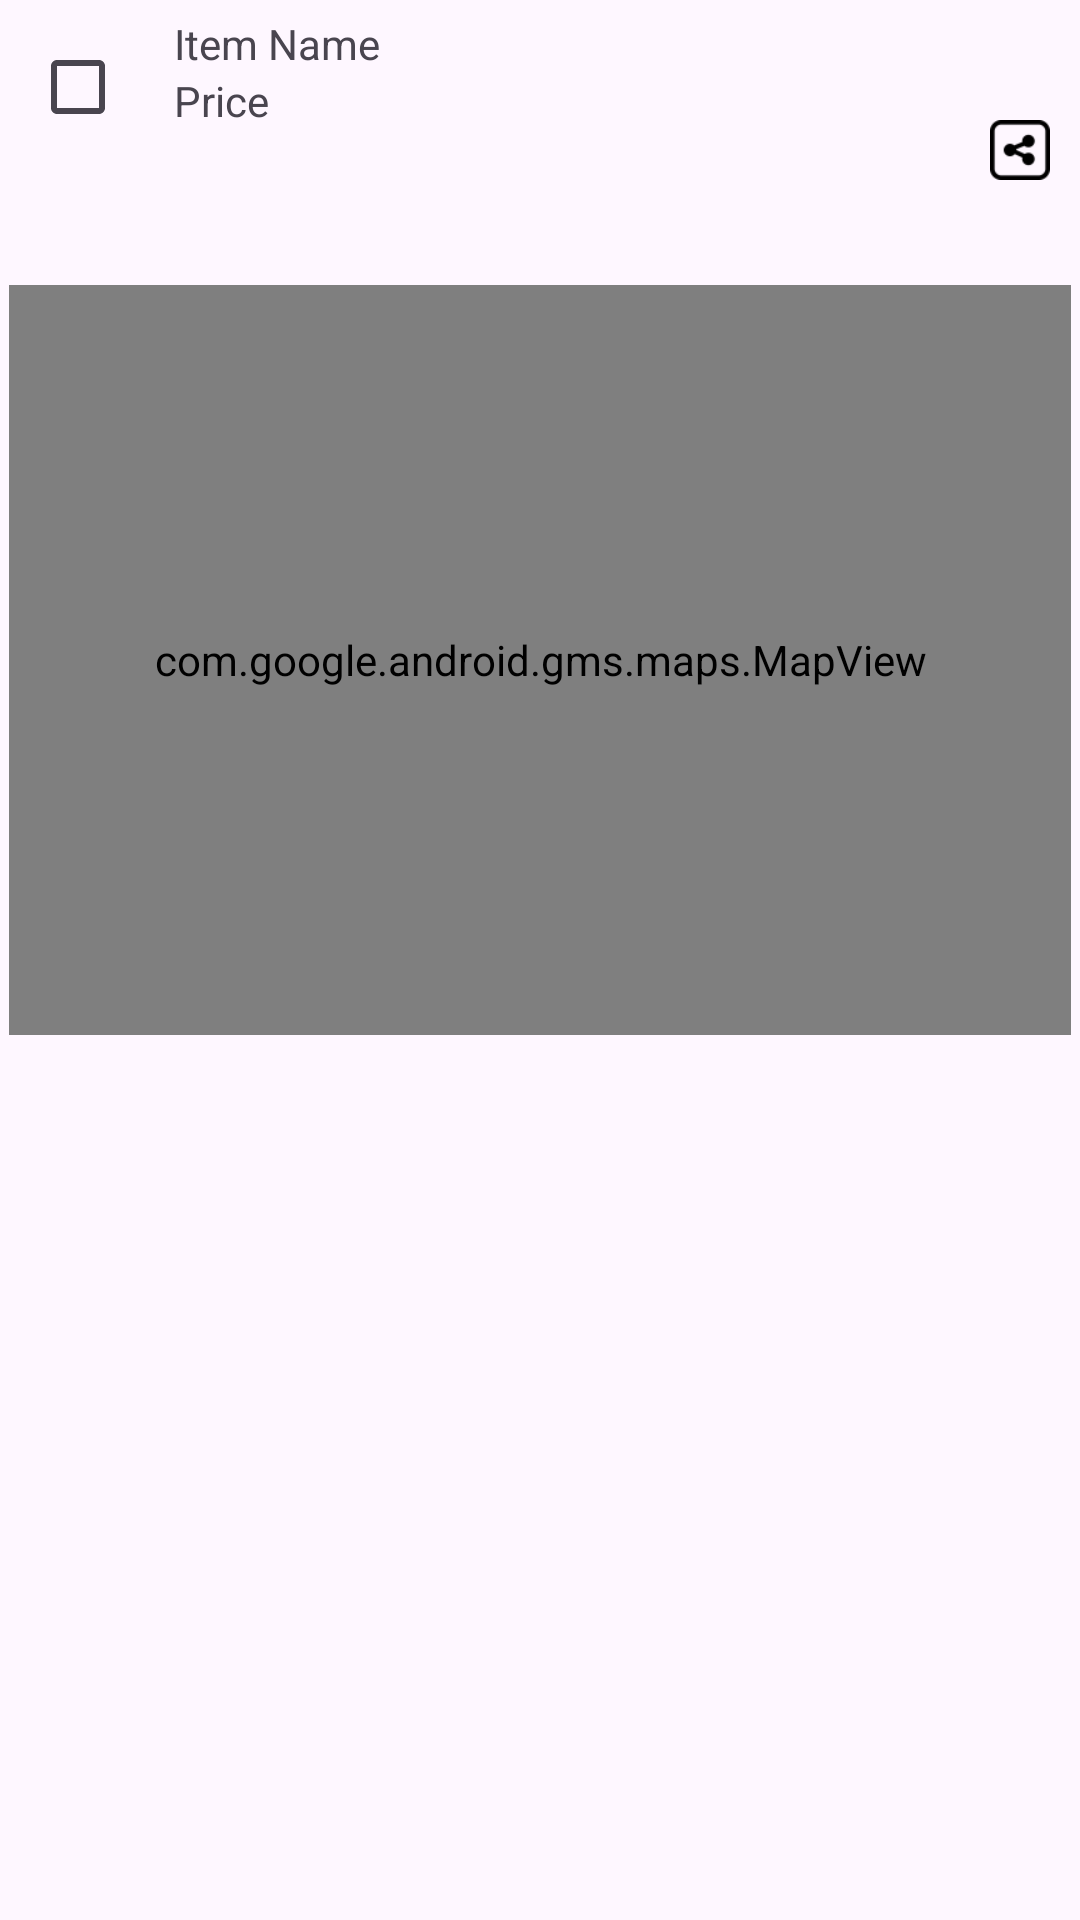

Locate icon controls on the screen. Image size 1080×1920, boxes as (x1, y1, x2, y2).
share: (990, 120, 1050, 180)
